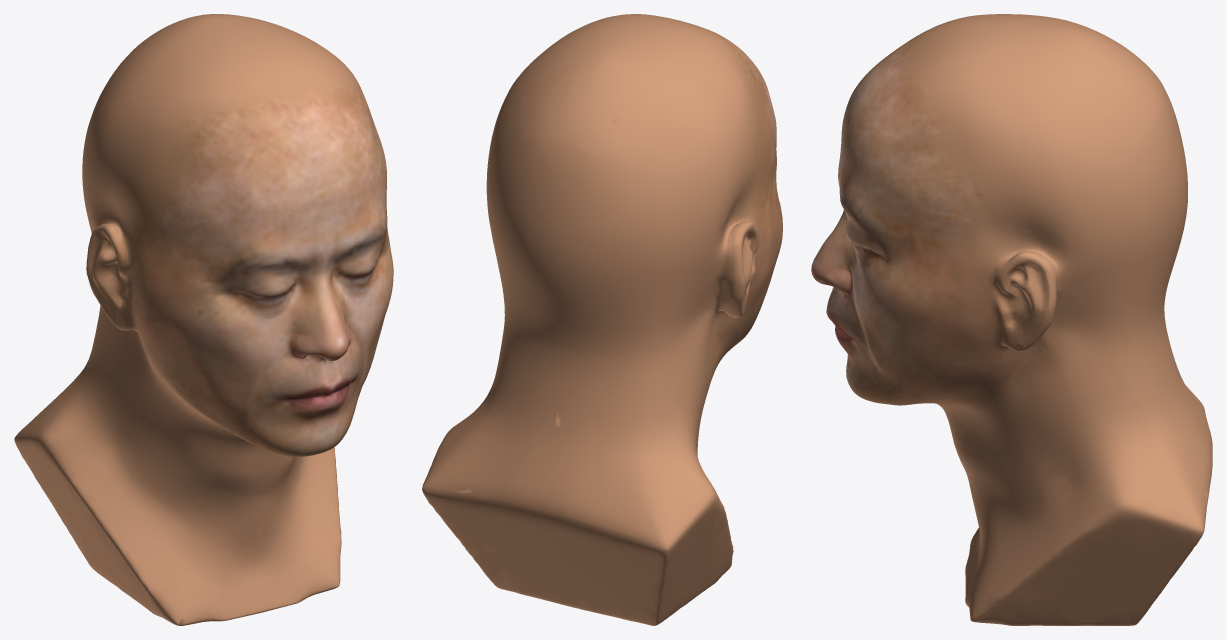
File: aaa.obj
3 renders of one model, left to right at view 1: azimuth 30°, elevation 25°; view 2: azimuth 150°, elevation 25°; view 3: azimuth 270°, elevation 25°, orthographic. The views are drawn at different scales.
Visible parts, largest first — view 1: aaa; view 2: aaa; view 3: aaa.
Part boxes in pixels (x1,y1,x2,y2): aaa: (14, 14, 393, 625); aaa: (422, 14, 782, 625); aaa: (811, 14, 1212, 625).
Size of the model in its own units: 61.12 by 118 by 76.38.
